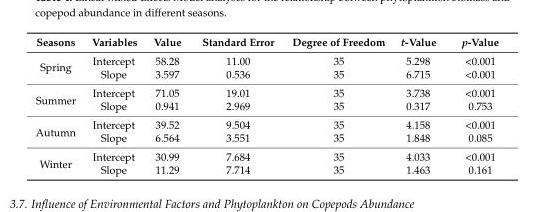table: (34, 35, 498, 175)
table column: (282, 35, 392, 175), (190, 35, 282, 175), (83, 35, 144, 175), (392, 35, 448, 175), (448, 35, 498, 175), (34, 35, 83, 175), (144, 35, 190, 175)
table column header: (34, 35, 498, 51)
table row: (34, 35, 498, 51), (34, 51, 498, 67), (34, 67, 498, 83), (34, 98, 498, 114), (34, 114, 498, 130), (34, 130, 498, 146), (34, 146, 498, 162), (34, 83, 498, 98), (34, 162, 498, 175)
table spanning cell: (34, 51, 83, 83), (34, 114, 83, 146), (34, 83, 83, 114), (34, 146, 83, 175)
